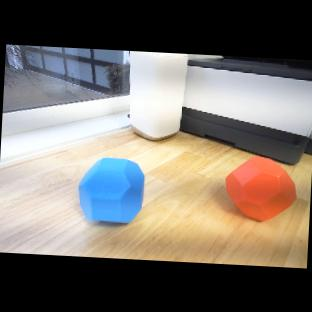V5_BLUE: (76, 153, 146, 225)
V5_RED: (223, 153, 299, 224)
